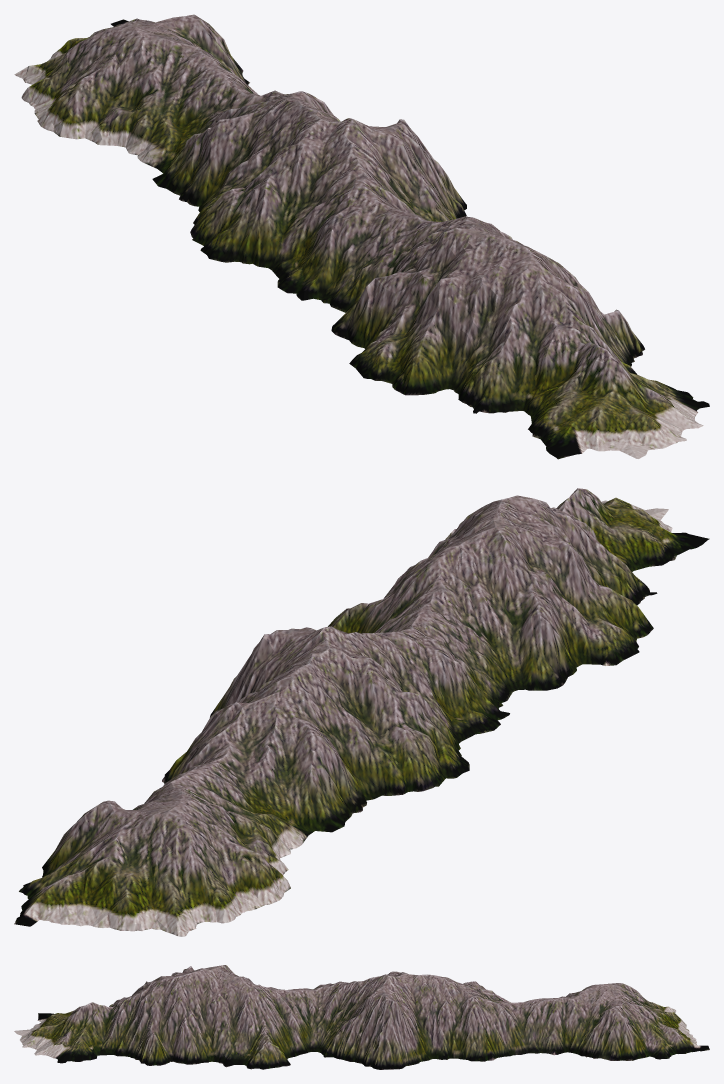
The model's file is Dhz_zsshan_02.FBX.
The picture shows the model from 3 angles, top to bottom: view 1: azimuth 30°, elevation 25°; view 2: azimuth 150°, elevation 25°; view 3: azimuth 270°, elevation 25°; orthographic projection. The views are drawn at different scales.
Parts seen in each view (by area): view 1: Dhz_zsshan_02; view 2: Dhz_zsshan_02; view 3: Dhz_zsshan_02.
Boxes of the visible parts, box(x1,y1,x2,y2) form: Dhz_zsshan_02: box(14, 14, 709, 459); Dhz_zsshan_02: box(14, 488, 709, 936); Dhz_zsshan_02: box(14, 965, 709, 1069).
Size of the model in its own units: 4.18 by 1.68 by 16.43.
Materials: 1 (1 with a texture image).
